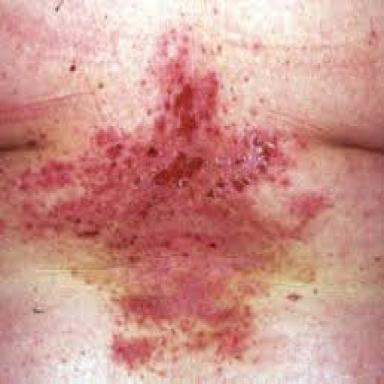Darier_s-Disease: (0, 22, 338, 374)
